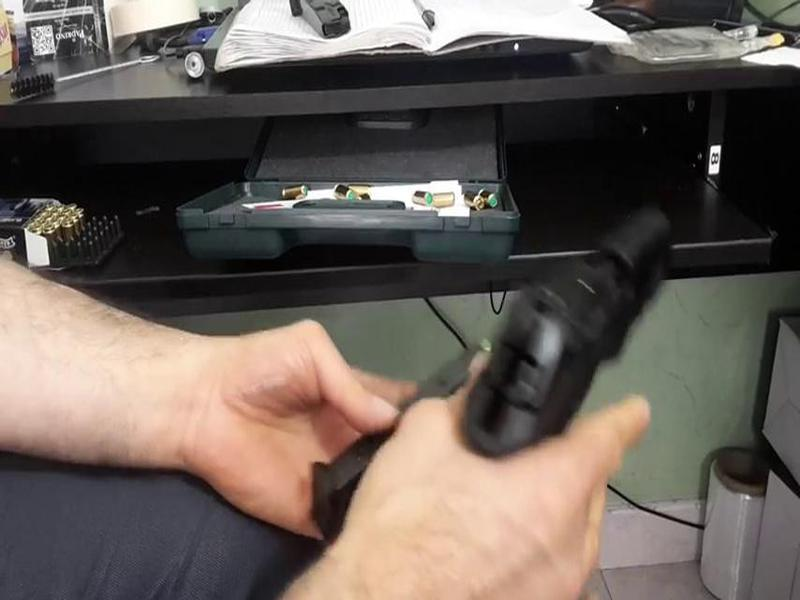Pistola: (452, 200, 673, 449)
